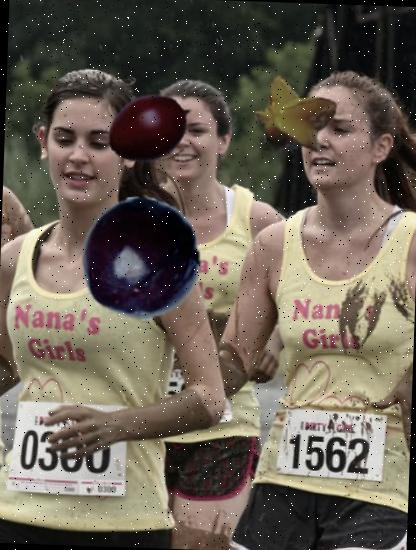Carambula: (247, 73, 339, 164)
Plum: (76, 194, 206, 324)
Tamarillo: (104, 80, 199, 176)
